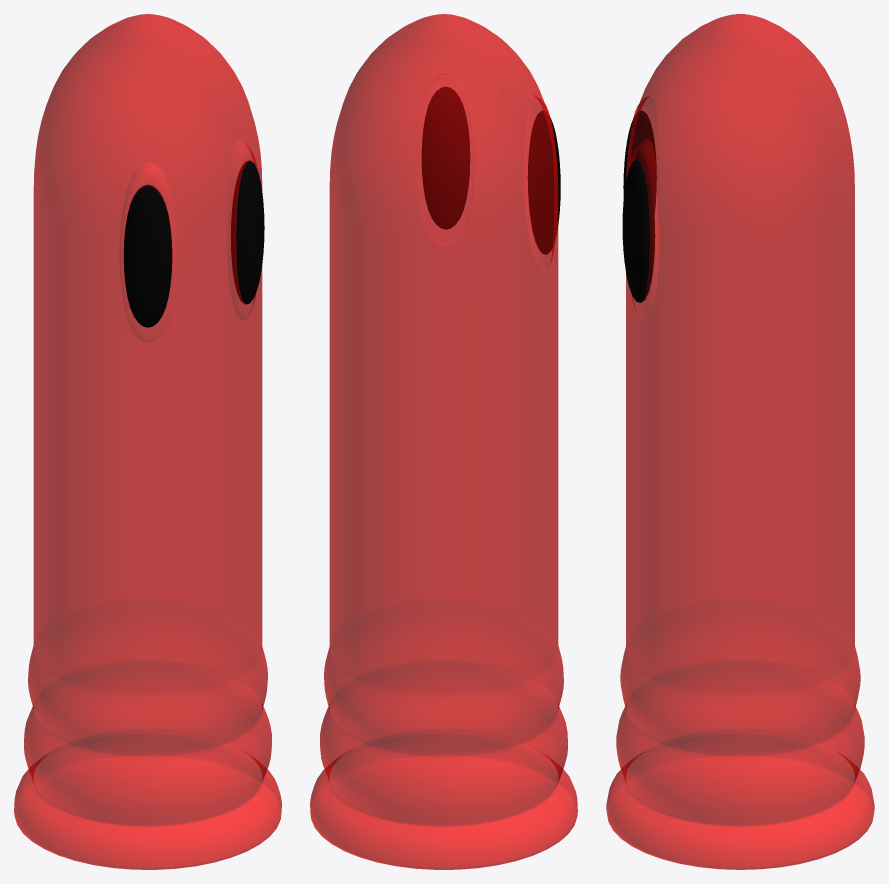
Rendered from Ennemis_RougeMarche.fbx.
The picture shows the model from 3 angles, left to right: view 1: azimuth 30°, elevation 25°; view 2: azimuth 150°, elevation 25°; view 3: azimuth 270°, elevation 25°; orthographic projection.
Parts seen in each view (by area): view 1: MonstrePrincipal, Right_Eye, Right_eye; view 2: MonstrePrincipal, Right_eye, Right_Eye; view 3: MonstrePrincipal, Right_eye, Right_Eye.
Part boxes in pixels (x1,y1,x2,y2): MonstrePrincipal: (14,14,281,869); Right_Eye: (123,184,172,327); Right_eye: (231,160,264,304); MonstrePrincipal: (310,14,577,869); Right_eye: (421,86,470,229); Right_Eye: (527,110,560,254); MonstrePrincipal: (606,14,874,869); Right_eye: (622,159,655,302); Right_Eye: (623,110,656,214).
Bounding box in the file's own units: 5.72 × 18.81 × 5.72.
